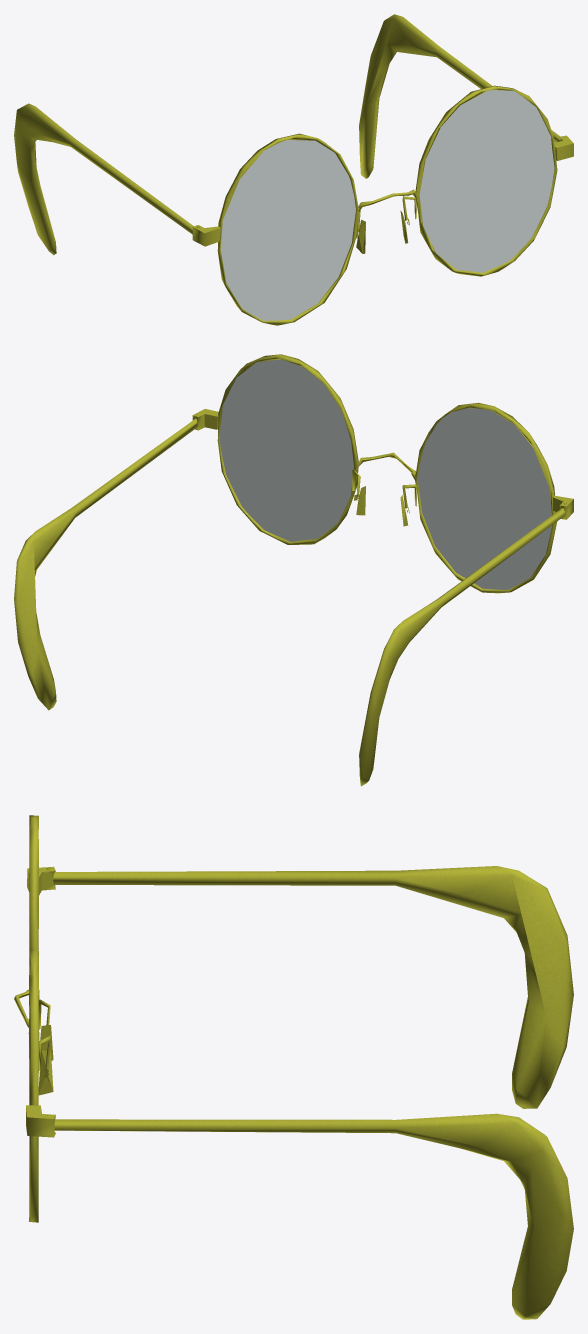
File: Eyeglasses.fbx
3 renders of one model, top to bottom at view 1: azimuth 30°, elevation 25°; view 2: azimuth 150°, elevation 25°; view 3: azimuth 270°, elevation 25°, orthographic. The views are drawn at different scales.
Parts seen in each view (by area): view 1: Glasses; view 2: Glasses; view 3: Glasses.
Part boxes in pixels (<box>): Glasses: <box>14,14,573,325</box>; Glasses: <box>14,354,573,786</box>; Glasses: <box>14,815,573,1319</box>.
Size of the model in its own units: 14.99 by 8.99 by 14.05.
Materials: 2 (1 with a texture image).
